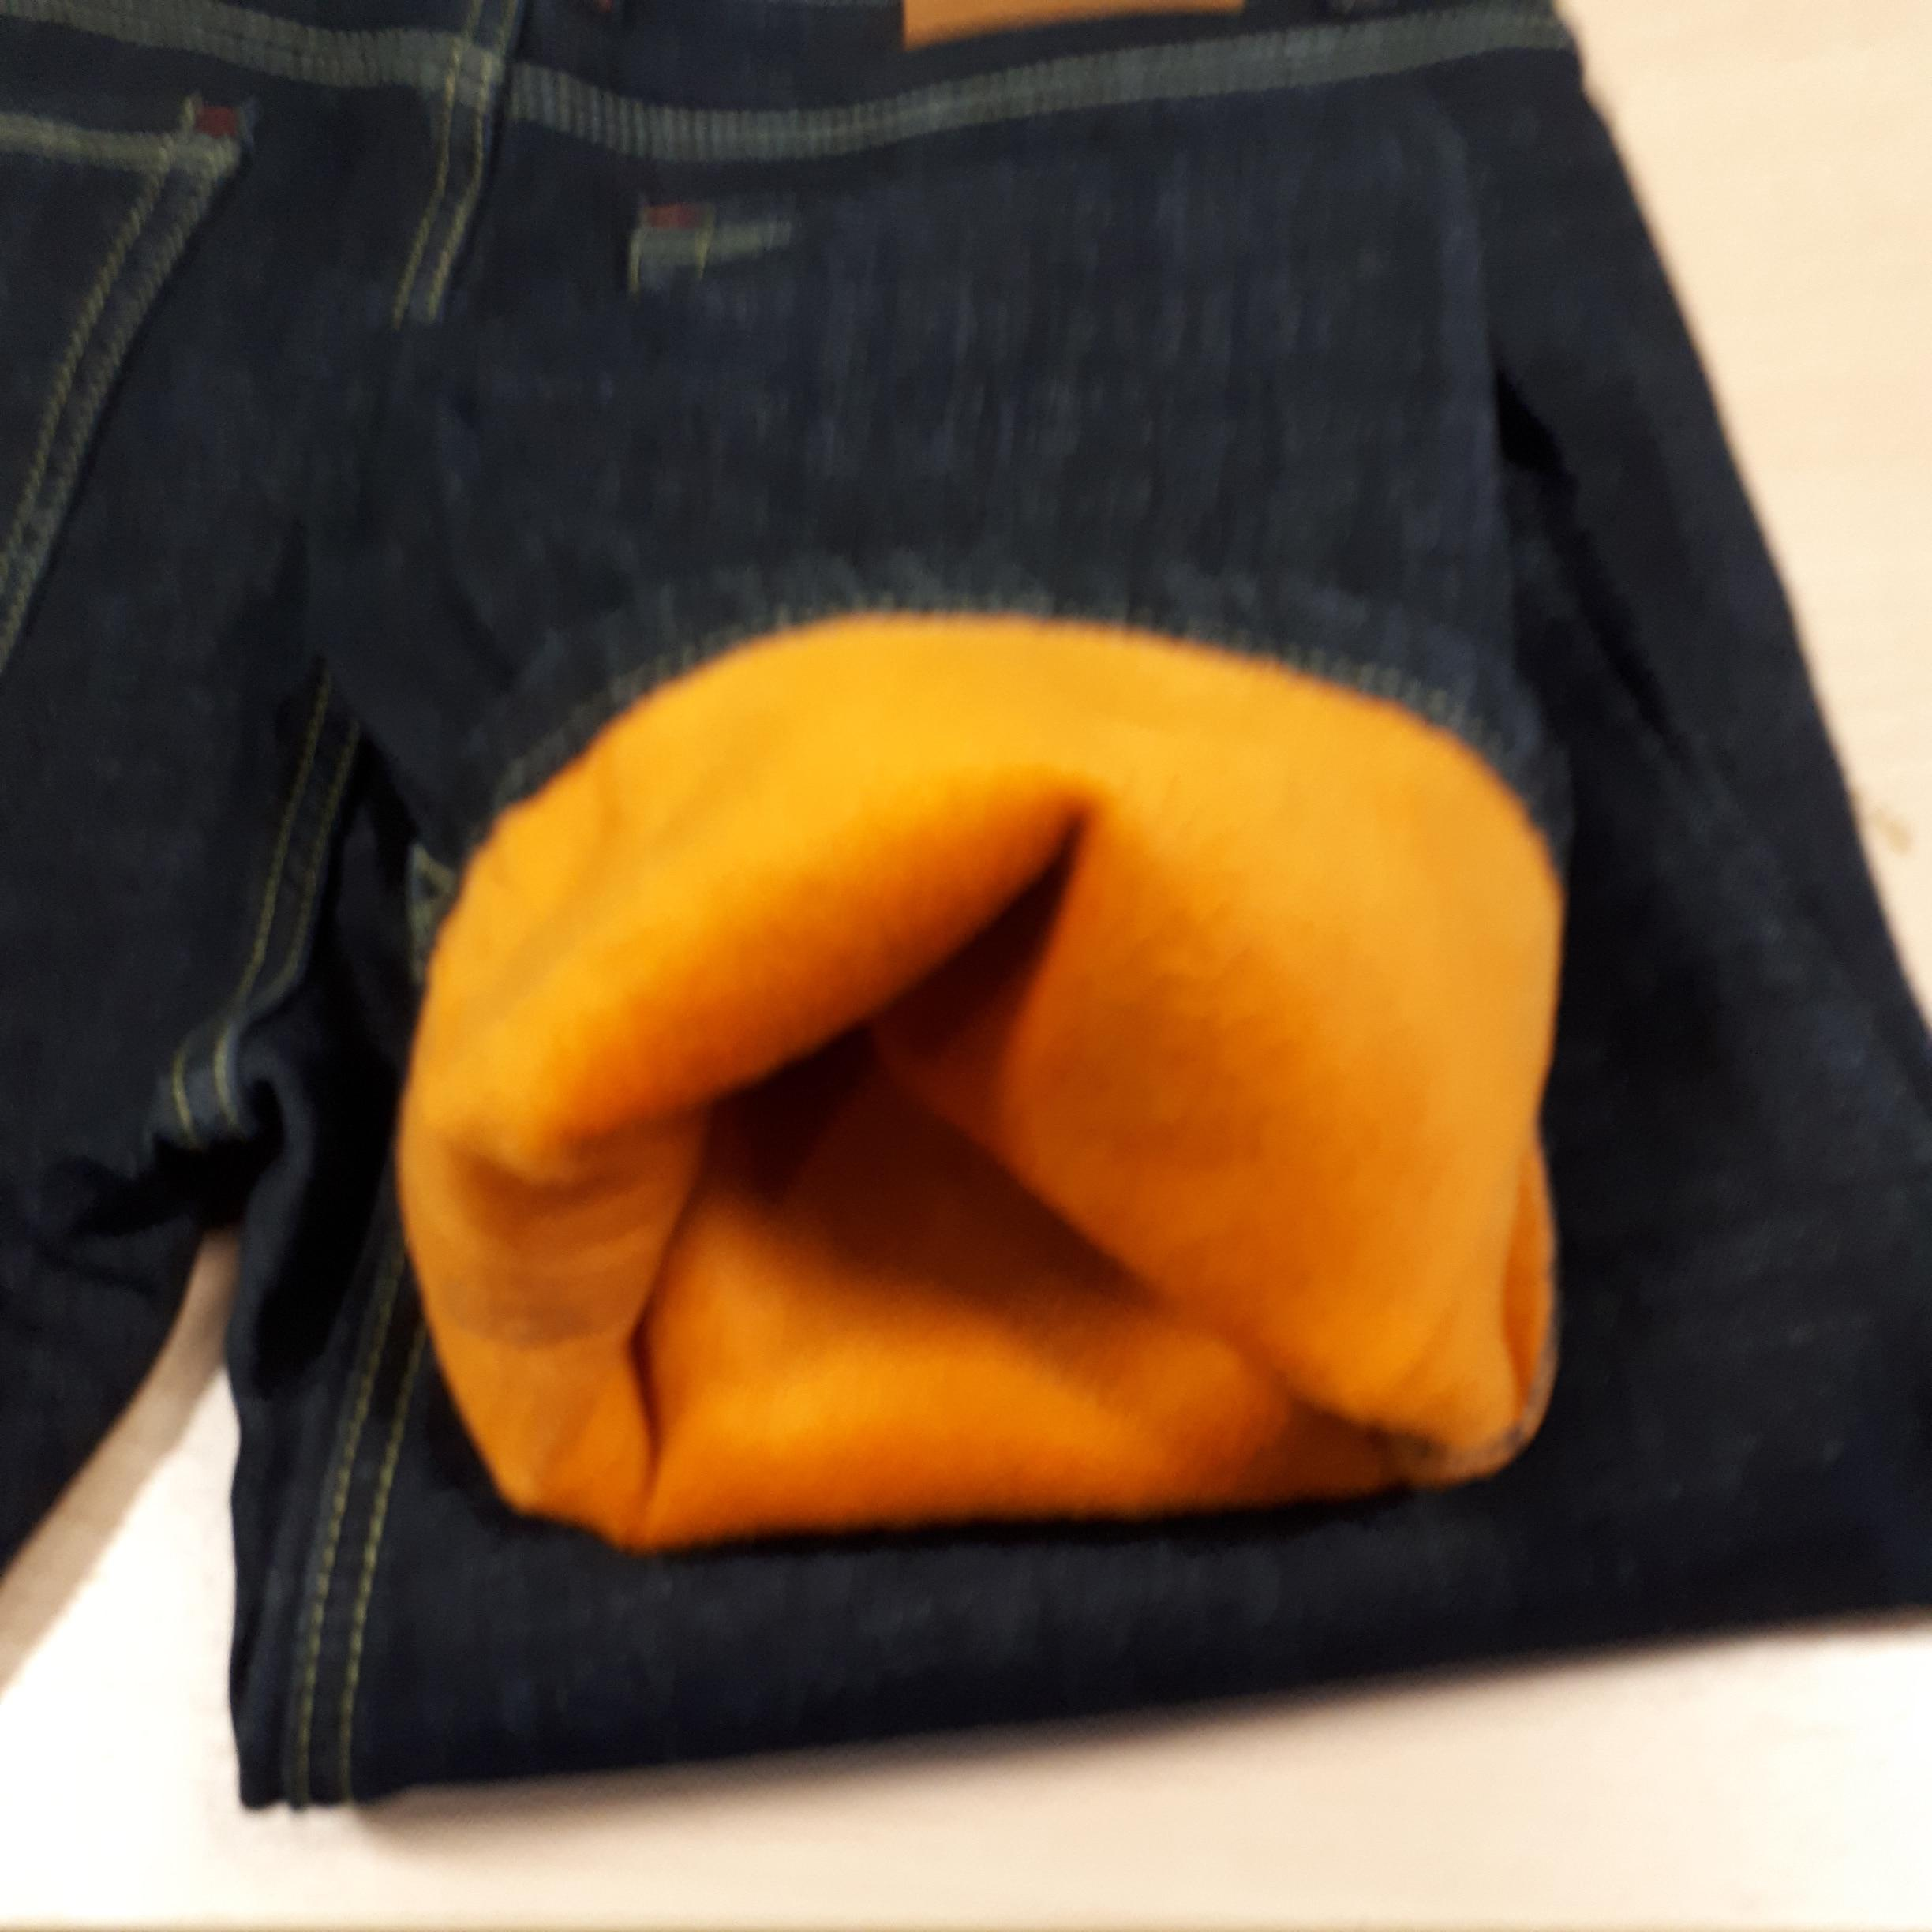jeans: (9, 23, 1826, 1677)
